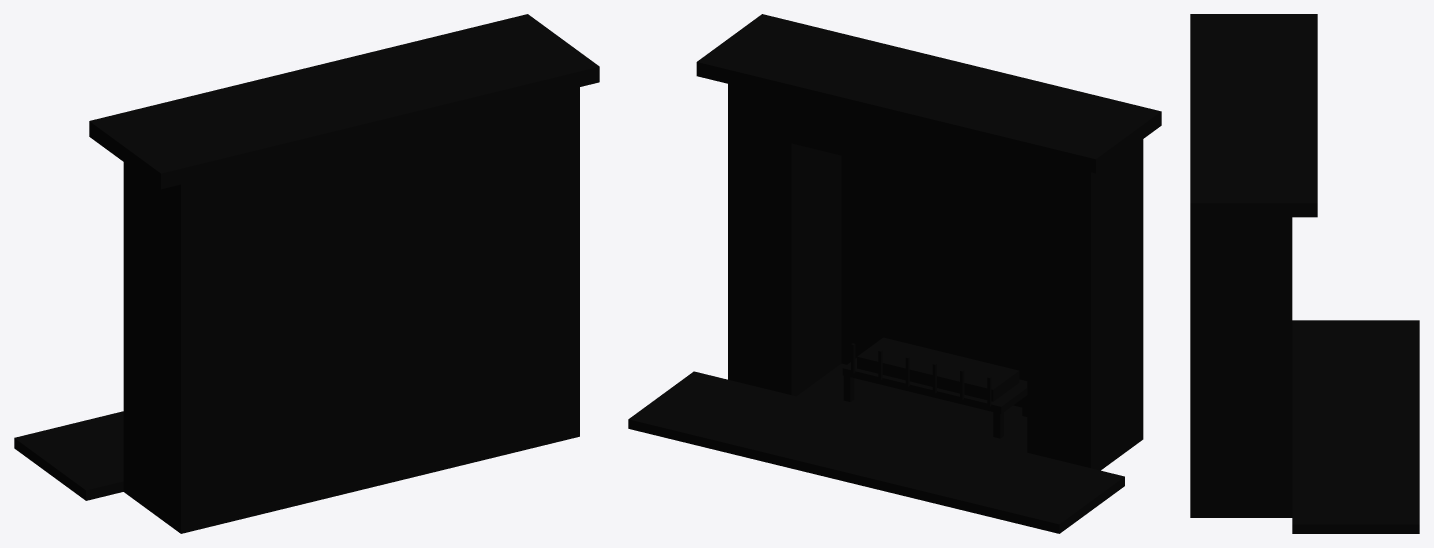
File: SM_fireplace_cold.fbx
3 views of the same model, side by side, from view 1: azimuth 30°, elevation 25°; view 2: azimuth 150°, elevation 25°; view 3: azimuth 270°, elevation 25° (orthographic). The views are drawn at different scales.
Parts seen in each view (by area): view 1: fireplace_cold; view 2: fireplace_cold; view 3: fireplace_cold.
Boxes of the visible parts, x1=… form: fireplace_cold: x1=14, y1=14, x2=599, y2=533; fireplace_cold: x1=628, y1=14, x2=1161, y2=533; fireplace_cold: x1=1190, y1=14, x2=1419, y2=533.
Bounding box in the file's own units: 1.9 × 1.4 × 0.9.
